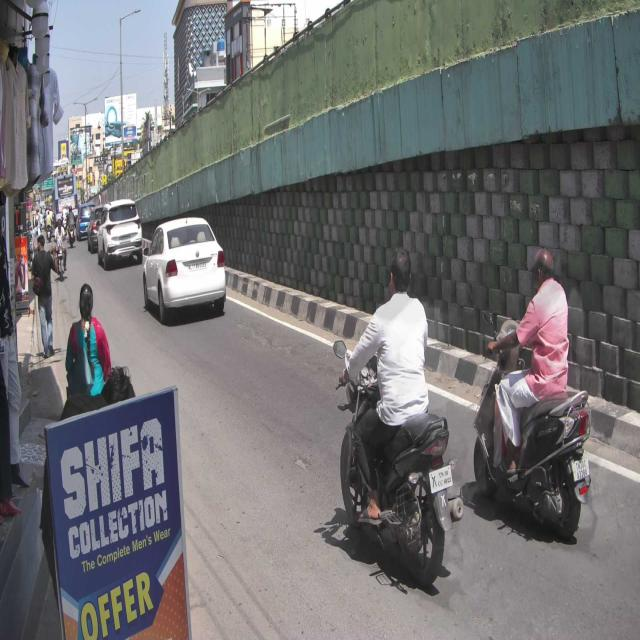single_rider: (335, 244, 465, 586), (473, 246, 591, 538)
